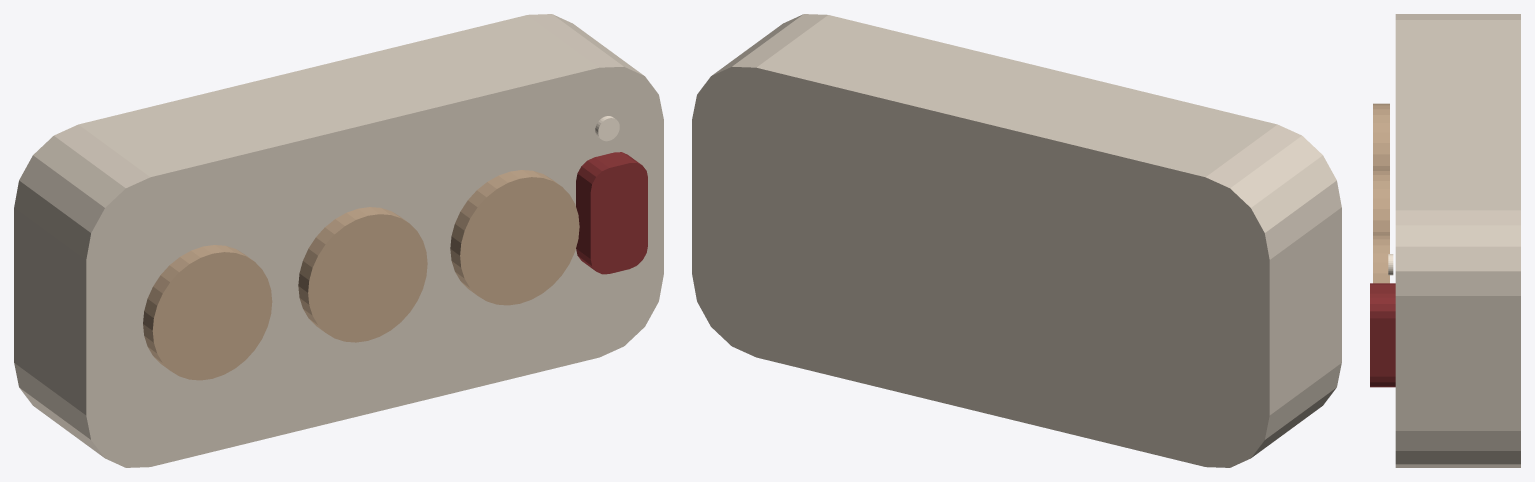
Rendered from powerstrip.glb.
3 renders of one model, left to right at view 1: azimuth 30°, elevation 25°; view 2: azimuth 150°, elevation 25°; view 3: azimuth 270°, elevation 25°, orthographic. The views are drawn at different scales.
Visible parts, largest first — view 1: case, socket-0.52, socket-0.06, socket0.39, switch; view 2: case; view 3: case, switch, socket-0.52, socket-0.06, socket0.39.
Part boxes in pixels (bbox=[...]): case: bbox=[14, 14, 663, 467]; socket-0.52: bbox=[143, 245, 272, 380]; socket-0.06: bbox=[298, 207, 427, 342]; socket0.39: bbox=[450, 170, 579, 305]; switch: bbox=[576, 152, 647, 274]; case: bbox=[692, 14, 1341, 467]; case: bbox=[1395, 14, 1520, 467]; switch: bbox=[1370, 283, 1395, 387]; socket-0.52: bbox=[1373, 103, 1389, 169]; socket-0.06: bbox=[1373, 169, 1389, 233]; socket0.39: bbox=[1373, 234, 1389, 283].
Bounding box in the file's own units: 1.71 × 0.82 × 0.4455.
